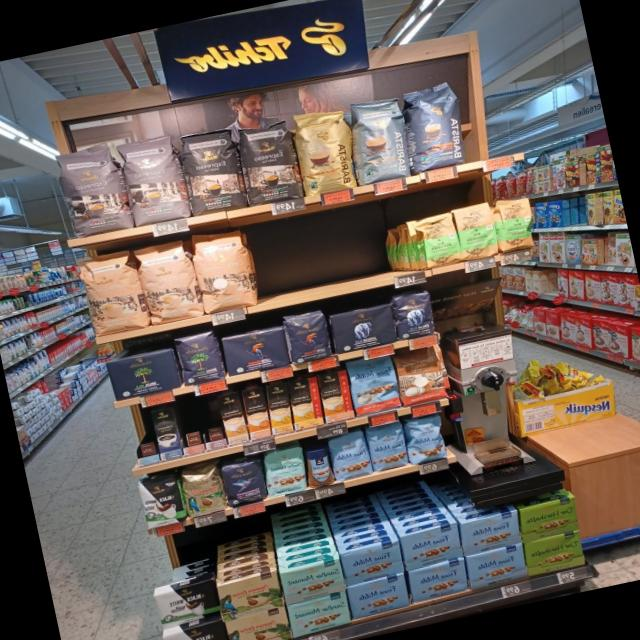AB Bohne: (389, 289, 438, 342)
AB Gemahlen: (328, 302, 400, 355)
Athiopien Bohne: (490, 195, 540, 254)
Athiopien Gemahlen: (452, 200, 499, 260), (416, 211, 462, 269)
BM Bohne: (172, 328, 225, 387)
BM Gemahlen: (104, 348, 180, 402)
BW Bohne: (152, 578, 222, 630), (136, 474, 188, 530), (160, 617, 231, 640)
Barista CB: (287, 104, 362, 198)
Barista CC: (344, 94, 416, 185)
Barista Espresso: (398, 80, 472, 174)
C Fino Bohne: (218, 458, 270, 508)
CC Mild: (75, 248, 148, 338), (188, 226, 260, 316), (134, 236, 204, 326)
CC Vollmundig: (392, 344, 446, 406)
Colombia BB Bohne: (178, 466, 228, 520)
Colombia BB Gemahlen: (214, 569, 282, 619), (222, 604, 291, 640)
Empty Shelf: (245, 191, 416, 302), (174, 401, 205, 447), (128, 411, 158, 458), (196, 396, 224, 442)
Espresso Aromatisch: (52, 135, 132, 239), (116, 130, 190, 228)
Espresso Kraftig: (176, 123, 250, 217), (233, 119, 304, 207)
FM 36 Pads: (346, 355, 402, 416)
FM Bohne: (364, 420, 412, 472), (402, 413, 449, 466), (325, 428, 372, 481)
FM Gemahlen: (398, 521, 464, 570), (338, 538, 406, 585), (346, 572, 412, 619), (457, 509, 524, 555), (463, 542, 529, 588), (406, 557, 470, 603)
FM Instant: (300, 445, 336, 489)
Herzhatfe Mundig: (516, 495, 583, 542), (522, 530, 586, 576)
LG Bohne: (282, 309, 334, 365)
LG Gemahlen: (220, 326, 292, 378)
SM Bohne: (258, 443, 310, 498)
SM Gemahlen: (278, 556, 346, 606), (284, 590, 352, 638)
Simo CCMild: (287, 376, 323, 430)
Simo CCMild bigpack: (266, 382, 293, 435)
Simo CCVollmundig: (318, 369, 354, 423)
Simo CCVollmundig bigpack: (241, 386, 273, 441)
Simo Decaff: (217, 391, 249, 445)
Simo Es Kraft: (150, 406, 182, 461)
